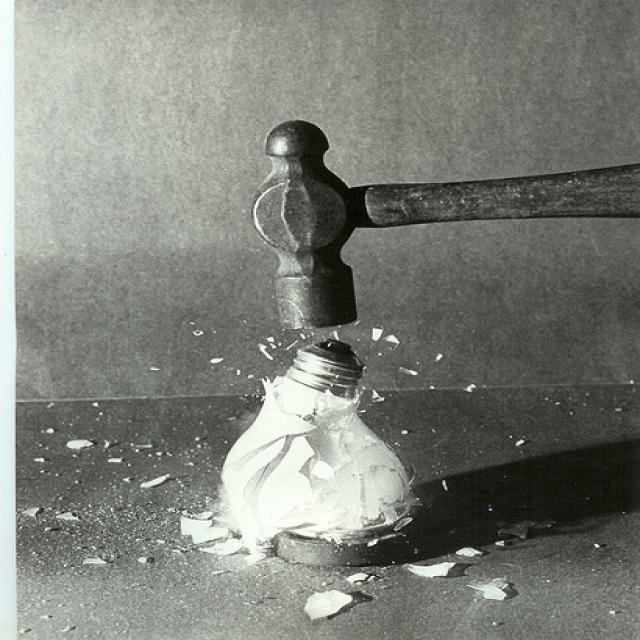hammer: (197, 104, 640, 340)
